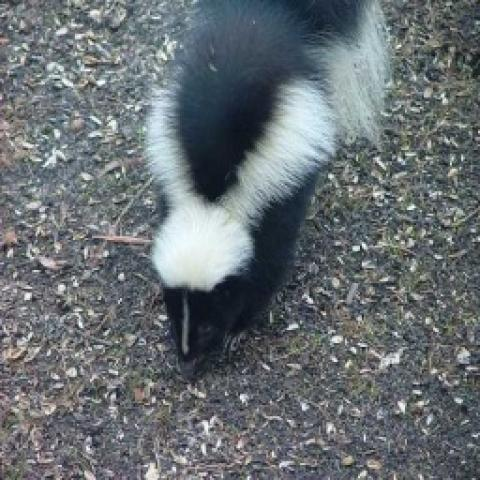small_animal: (138, 0, 398, 379)
